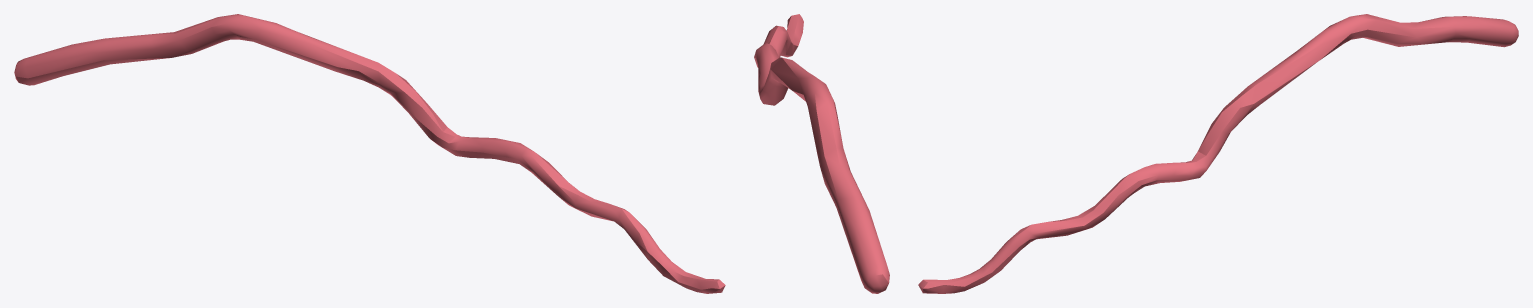
Rendered from fma3895_fj2651.glb.
The picture shows the model from 3 angles, left to right: view 1: azimuth 30°, elevation 25°; view 2: azimuth 150°, elevation 25°; view 3: azimuth 270°, elevation 25°; orthographic projection. The views are drawn at different scales.
Visible parts, largest first — view 1: FMA3895_FJ2651; view 2: FMA3895_FJ2651; view 3: FMA3895_FJ2651.
Part boxes in pixels (x1=…): FMA3895_FJ2651: x1=14, y1=14, x2=725, y2=293; FMA3895_FJ2651: x1=754, y1=14, x2=889, y2=293; FMA3895_FJ2651: x1=918, y1=14, x2=1518, y2=293.
Size of the model in its own units: 0.0169 by 0.00715 by 0.0233.
